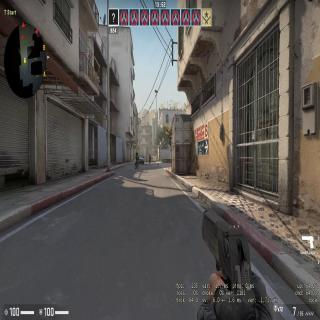CT-Body: (135, 151, 139, 169), (149, 153, 151, 164)
CT-Head: (136, 152, 138, 154), (150, 154, 150, 156)
